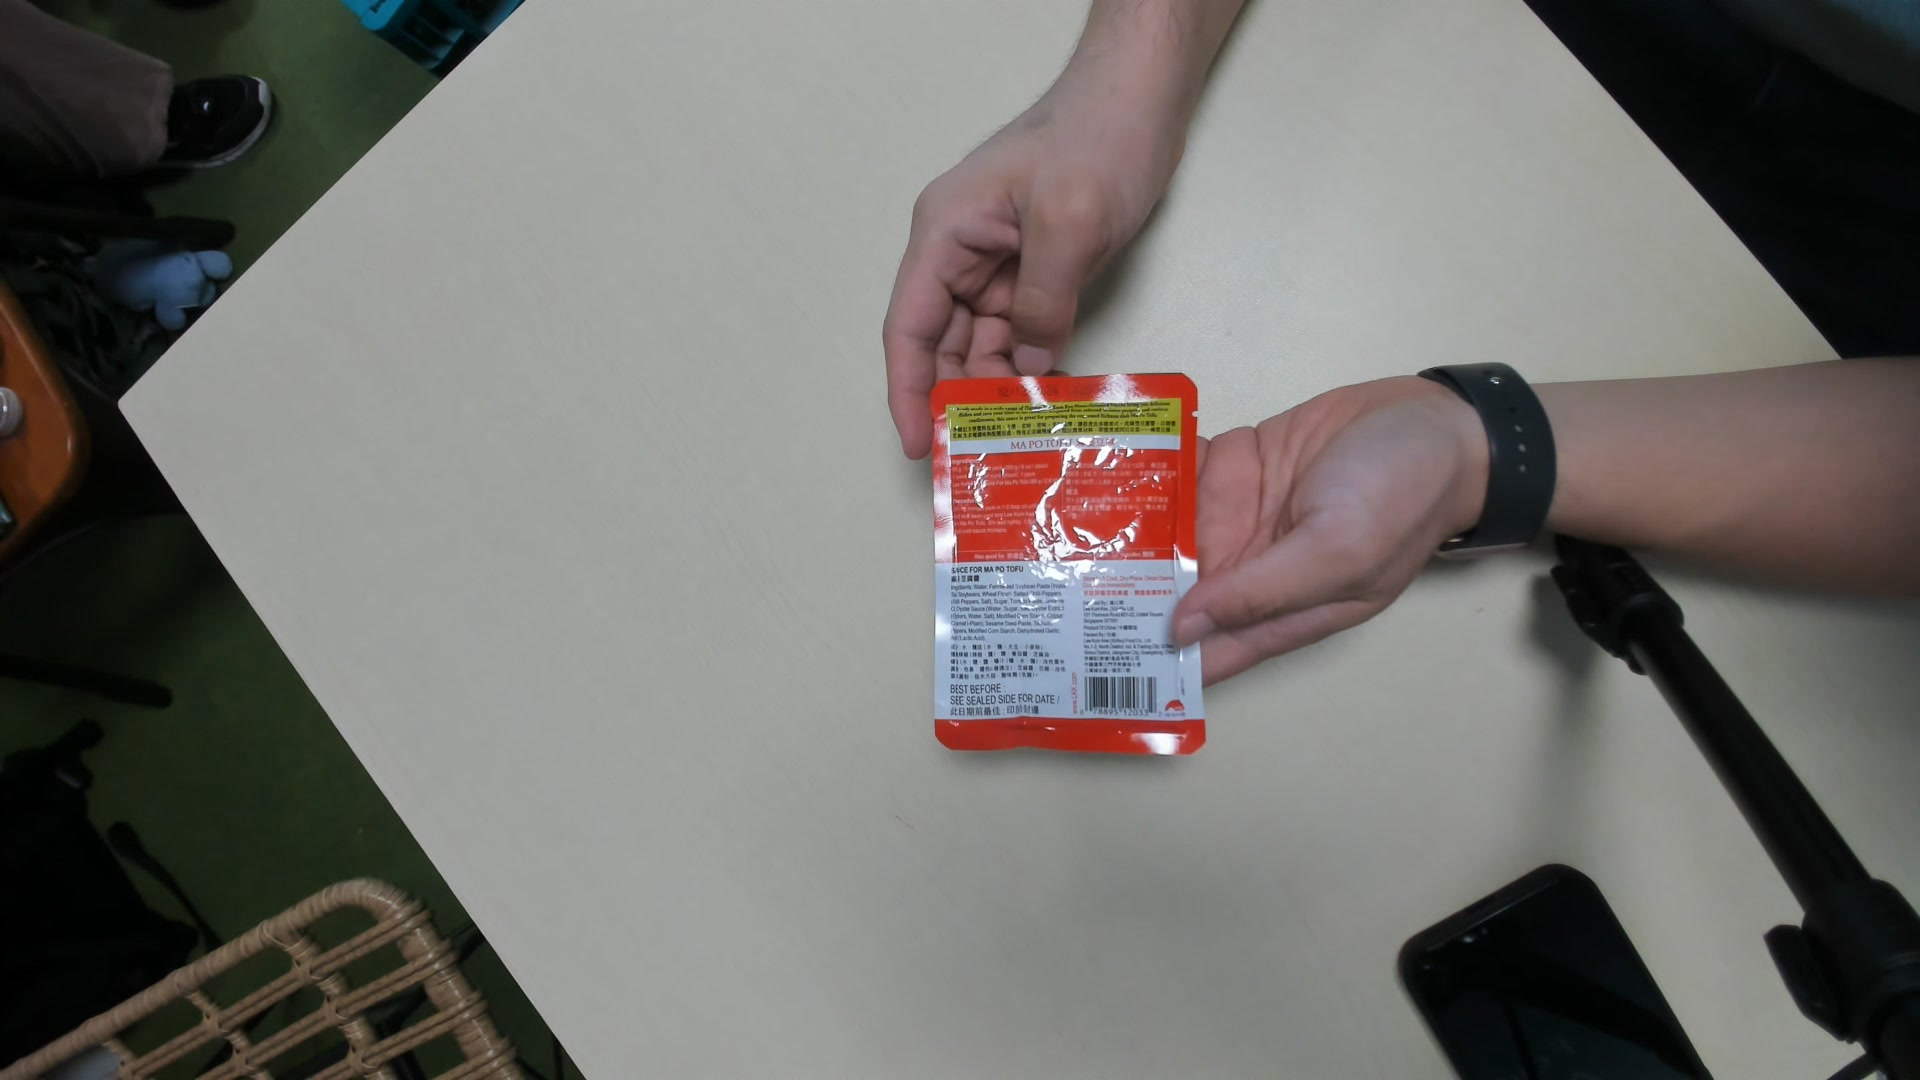OtherSauceDressing_0-99g_NonHalal_NonHealthy: (923, 371, 1208, 767)
